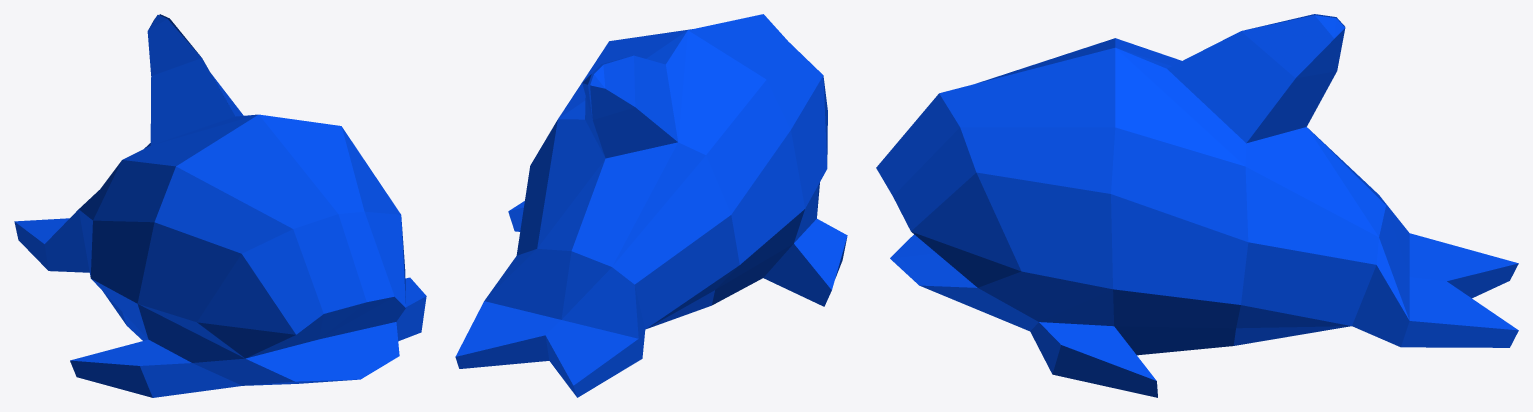
File: study_stuffedToy_shark_meshCollider.fbx
3 views of the same model, side by side, from view 1: azimuth 30°, elevation 25°; view 2: azimuth 150°, elevation 25°; view 3: azimuth 270°, elevation 25° (orthographic). The views are drawn at different scales.
Parts seen in each view (by area): view 1: study_stuffedToy_shark_meshCollider; view 2: study_stuffedToy_shark_meshCollider; view 3: study_stuffedToy_shark_meshCollider.
Boxes of the visible parts, left/top/right/bottom form: study_stuffedToy_shark_meshCollider: left=14, top=14, right=426, bottom=397; study_stuffedToy_shark_meshCollider: left=455, top=14, right=847, bottom=397; study_stuffedToy_shark_meshCollider: left=876, top=14, right=1518, bottom=397.
Size of the model in its own units: 19.75 by 15.03 by 29.19.
